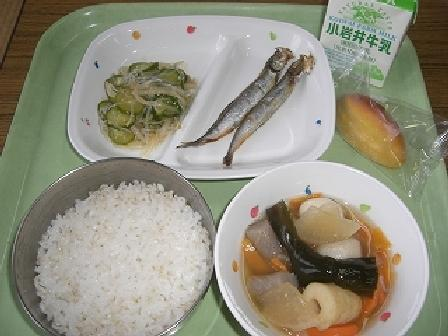Fish: (189, 30, 319, 155)
Milk: (310, 0, 415, 85)
Rice: (13, 153, 208, 331)
pastry: (320, 82, 427, 165)
salad with sauce: (94, 51, 186, 143)
vegetable soup: (235, 176, 418, 333)
